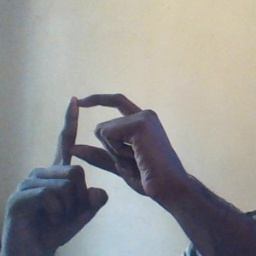D: (37, 87, 158, 215)
